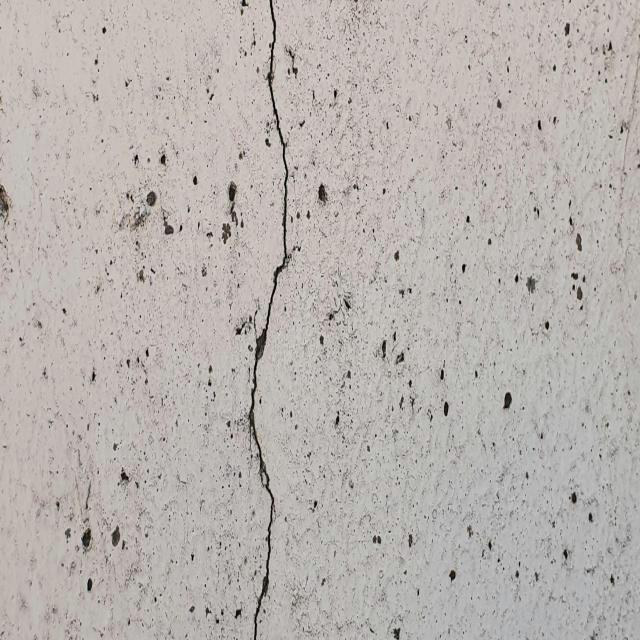SurfaceCrack: (195, 0, 333, 640)
